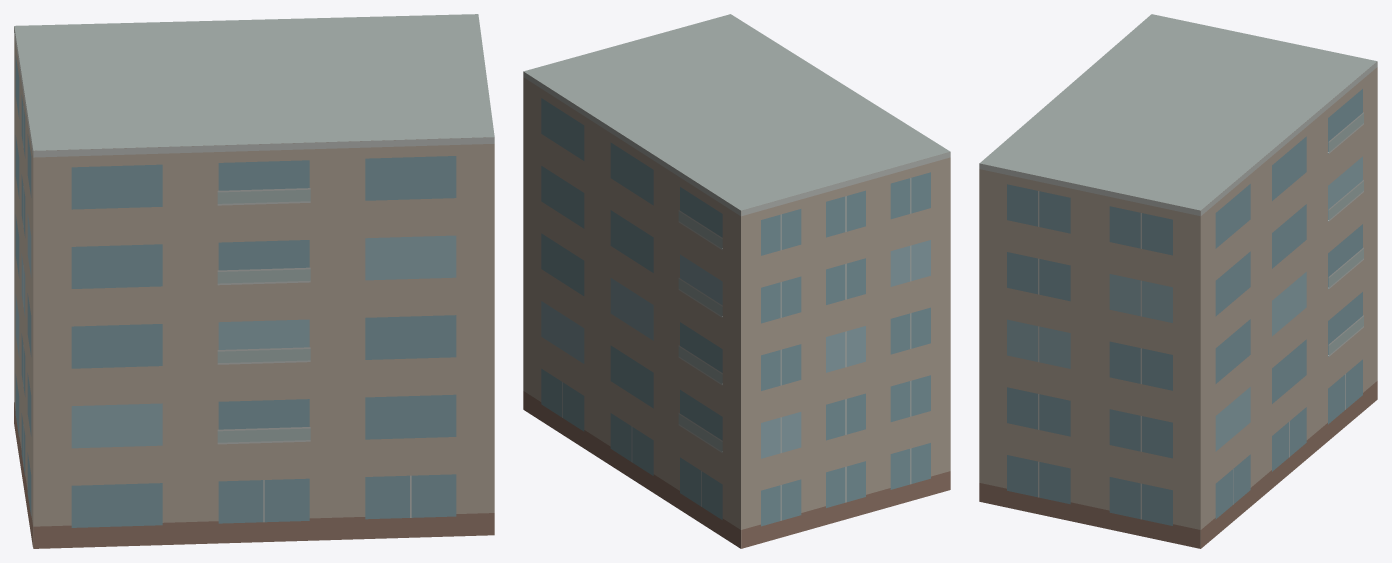
The model's file is survey-upis-32885364.glb.
3 renders of one model, left to right at view 1: azimuth 30°, elevation 25°; view 2: azimuth 150°, elevation 25°; view 3: azimuth 270°, elevation 25°, orthographic. The views are drawn at different scales.
Parts seen in each view (by area): view 1: survey-upis-32885364.tmp; view 2: survey-upis-32885364.tmp; view 3: survey-upis-32885364.tmp.
Boxes of the visible parts, box(x1,y1,x2,y2) form: survey-upis-32885364.tmp: box(14, 14, 494, 548); survey-upis-32885364.tmp: box(523, 14, 950, 548); survey-upis-32885364.tmp: box(979, 14, 1377, 548).
Size of the model in its own units: 18.08 by 14.5 by 15.47.
